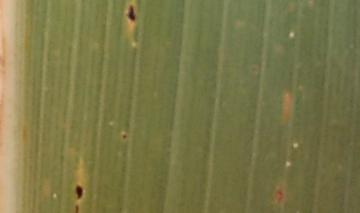tarspot: (123, 1, 142, 23), (72, 181, 86, 203), (74, 204, 82, 213), (121, 131, 128, 141)
